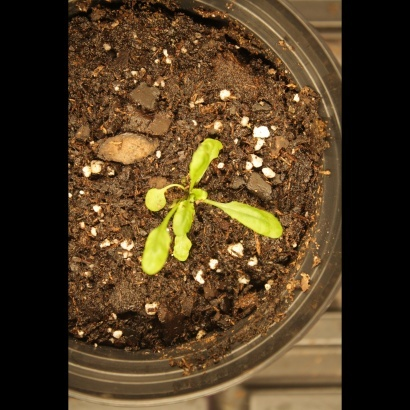leaf: (220, 192, 293, 246), (184, 127, 221, 187), (139, 221, 174, 278), (140, 183, 170, 215), (173, 198, 196, 235), (172, 234, 197, 266), (188, 185, 211, 208)
